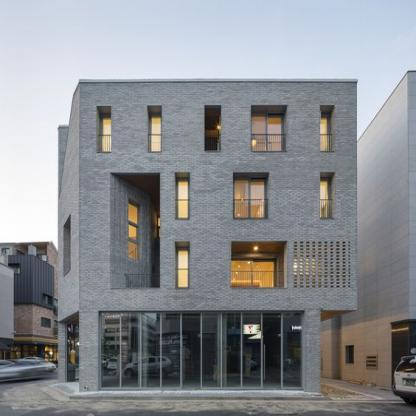Balcony: (231, 271, 284, 298)
Building Outline: (58, 78, 358, 393)
Facade: (79, 77, 358, 393)
Floor Slab: (80, 298, 358, 309), (80, 158, 356, 169), (160, 226, 357, 237)
Glass Wall: (99, 312, 304, 389), (230, 260, 278, 298)
Window: (110, 172, 160, 289), (294, 242, 351, 288), (232, 241, 287, 287), (234, 177, 266, 218), (251, 113, 283, 153), (205, 106, 221, 151), (128, 203, 137, 259), (100, 114, 111, 152), (150, 114, 161, 152), (320, 113, 331, 151), (319, 179, 330, 217), (178, 249, 188, 287), (177, 181, 187, 219), (158, 218, 167, 236)
